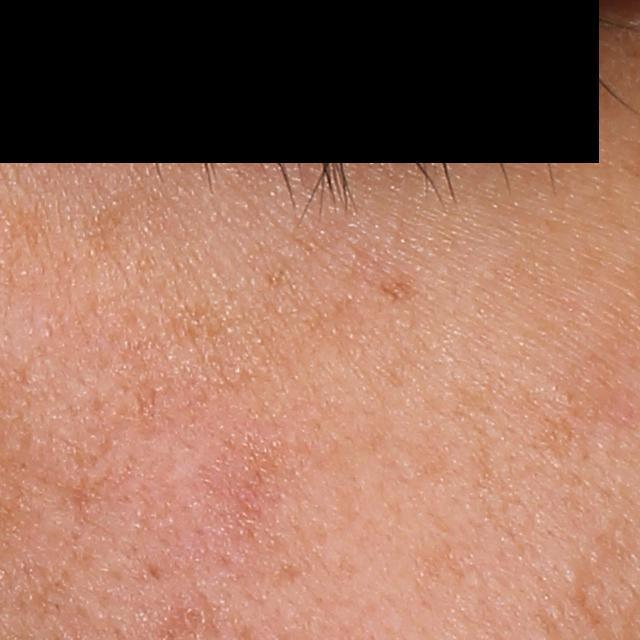comedo: (560, 563, 582, 583)
